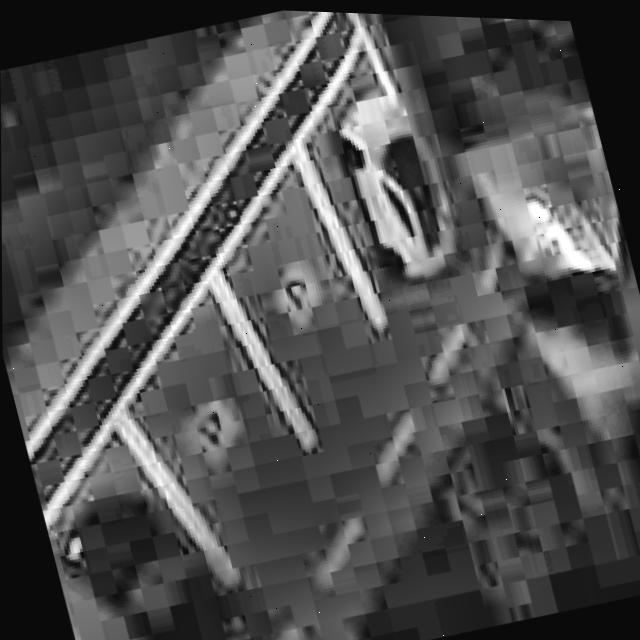car: (41, 449, 265, 640), (312, 72, 466, 292)
